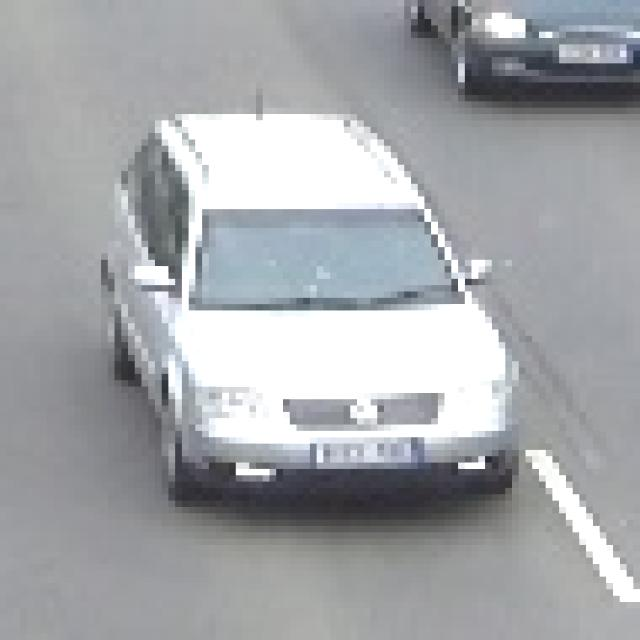SUV: (123, 126, 504, 495), (407, 0, 638, 89)
